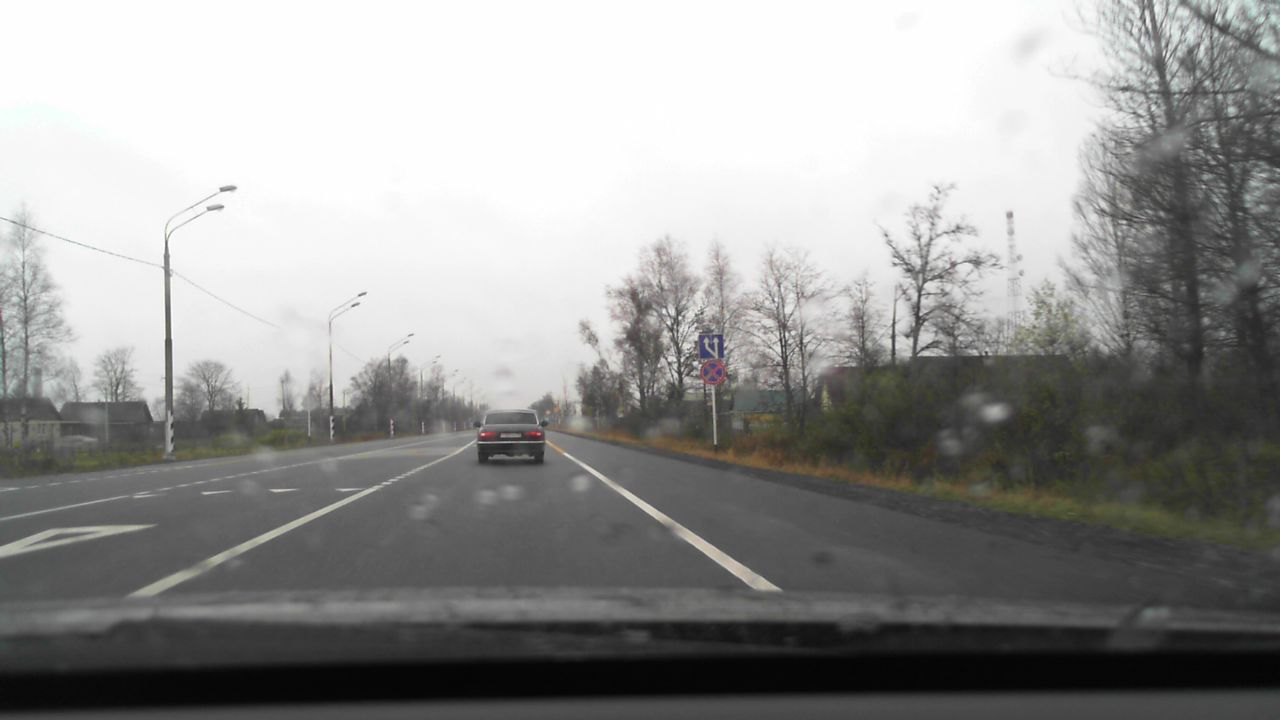No Parking: (700, 360, 725, 384)
